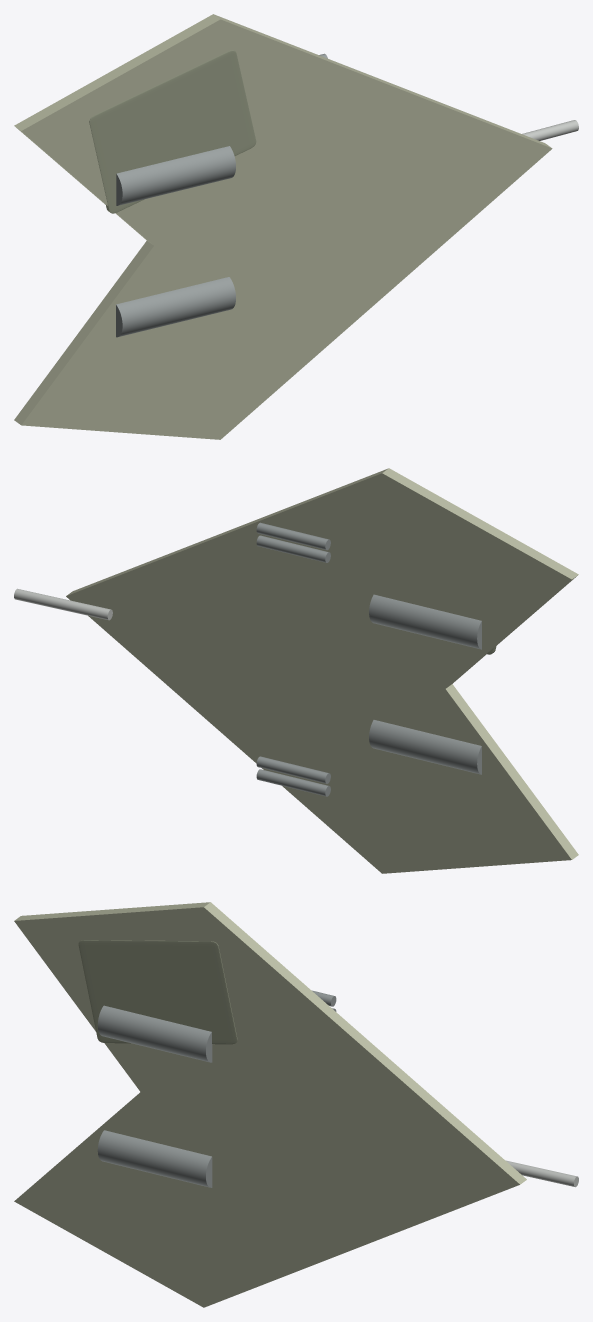
The model's file is v-x06-vanguard-reserveStrike-lod2.glb.
3 renders of one model, top to bottom at view 1: azimuth 30°, elevation 25°; view 2: azimuth 150°, elevation 25°; view 3: azimuth 330°, elevation 25°, orthographic. The views are drawn at different scales.
Visible parts, largest first — view 1: flying_wing_planform, flying_wing_elevon_1, flying_wing_engine_0, flying_wing_engine_1, flying_wing_gun_barrel_0; view 2: flying_wing_planform, flying_wing_engine_1, flying_wing_engine_0, flying_wing_gun_barrel_0, flying_wing_-1_tube_2, flying_wing_1_tube_1, flying_wing_1_tube_2, flying_wing_-1_tube_1; view 3: flying_wing_planform, flying_wing_elevon_1, flying_wing_engine_0, flying_wing_engine_1, flying_wing_gun_barrel_0.
Part boxes in pixels (left/top/right/bottom): flying_wing_planform: left=14, top=14, right=552, bottom=439; flying_wing_elevon_1: left=89, top=50, right=256, bottom=213; flying_wing_engine_0: left=116, top=277, right=235, bottom=337; flying_wing_engine_1: left=116, top=146, right=235, bottom=205; flying_wing_gun_barrel_0: left=522, top=120, right=578, bottom=140; flying_wing_planform: left=66, top=468, right=578, bottom=873; flying_wing_engine_1: left=369, top=594, right=481, bottom=649; flying_wing_engine_0: left=369, top=720, right=481, bottom=774; flying_wing_gun_barrel_0: left=14, top=588, right=112, bottom=620; flying_wing_-1_tube_2: left=256, top=756, right=330, bottom=783; flying_wing_1_tube_1: left=256, top=535, right=330, bottom=562; flying_wing_1_tube_2: left=256, top=522, right=330, bottom=550; flying_wing_-1_tube_1: left=256, top=769, right=330, bottom=796; flying_wing_planform: left=14, top=902, right=526, bottom=1307; flying_wing_elevon_1: left=78, top=940, right=237, bottom=1044; flying_wing_engine_0: left=97, top=1130, right=212, bottom=1187; flying_wing_engine_1: left=97, top=1005, right=212, bottom=1062; flying_wing_gun_barrel_0: left=505, top=1160, right=578, bottom=1187.
Size of what is drawn, in the model's own units: 15.42 by 10.82 by 1.28.
